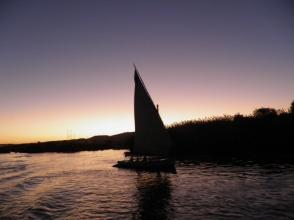fanchuan: (114, 61, 191, 172)
